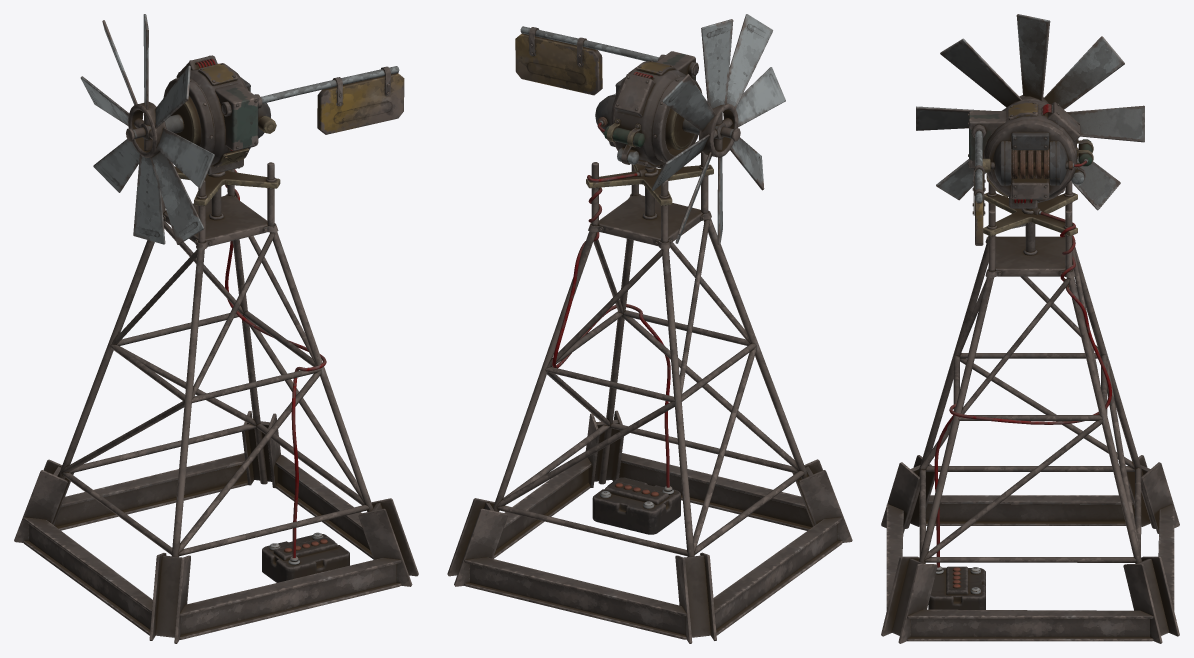
The model's file is sm_wind_turbine_01.fbx.
The picture shows the model from 3 angles, left to right: view 1: azimuth 30°, elevation 25°; view 2: azimuth 150°, elevation 25°; view 3: azimuth 270°, elevation 25°; orthographic projection. The views are drawn at different scales.
Parts seen in each view (by area): view 1: sm_wind_turbine_01, sm_wind_turbine_01_turbine, sm_wind_turbine_01_wings; view 2: sm_wind_turbine_01, sm_wind_turbine_01_turbine, sm_wind_turbine_01_wings; view 3: sm_wind_turbine_01, sm_wind_turbine_01_wings, sm_wind_turbine_01_turbine.
Part boxes in pixels (bbox=[...]): sm_wind_turbine_01: bbox=[14, 162, 418, 643]; sm_wind_turbine_01_turbine: bbox=[163, 55, 404, 175]; sm_wind_turbine_01_wings: bbox=[80, 14, 214, 244]; sm_wind_turbine_01: bbox=[447, 151, 852, 643]; sm_wind_turbine_01_turbine: bbox=[515, 26, 702, 168]; sm_wind_turbine_01_wings: bbox=[651, 14, 785, 245]; sm_wind_turbine_01: bbox=[881, 181, 1179, 643]; sm_wind_turbine_01_wings: bbox=[916, 14, 1144, 228]; sm_wind_turbine_01_turbine: bbox=[968, 101, 1093, 245].
Size of the model in its own units: 381 by 683 by 348.
Materials: 1 (1 with a texture image).
